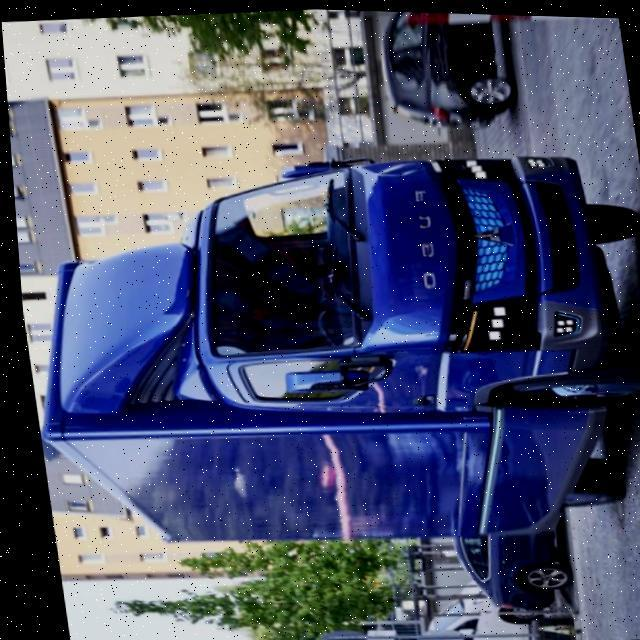truck: (8, 129, 640, 563)
